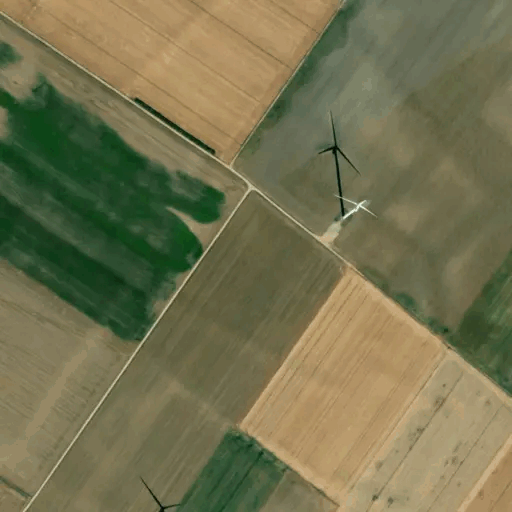wt: (313, 100, 384, 240), (136, 470, 186, 512)
